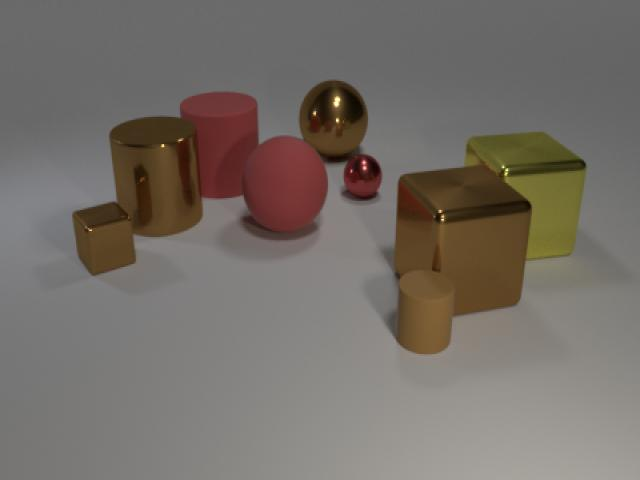cylinder: (106, 110, 209, 241), (177, 84, 265, 204), (387, 264, 458, 356)
round ball: (241, 132, 330, 238), (296, 74, 371, 161), (341, 151, 387, 206)
